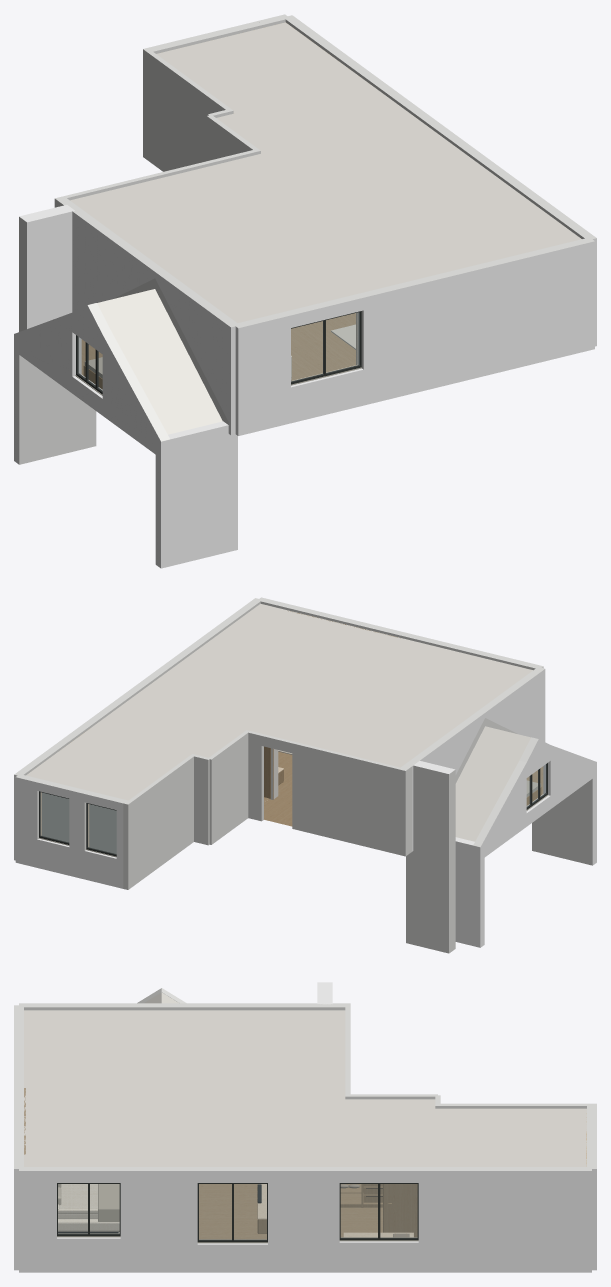
The picture shows the model from 3 angles, top to bottom: view 1: azimuth 30°, elevation 25°; view 2: azimuth 150°, elevation 25°; view 3: azimuth 270°, elevation 25°; orthographic projection. The views are drawn at different scales.
Visible parts, largest first — view 1: Bedroom 02 | ceiling 0, Proposal | New wing south upper end pier.001, Bedroom 02 | ceiling 2, Proposal | Garage wing south return.001, Proposal | West upper principal facade above wing roof.001, Bedroom 02 | retained vault soffit, Proposal | New wing south upper pier 0.001, Proposal | Garage wing north return.001, Proposal | Entrance bay south return.001, Proposal | Guest bathroom west.001, Proposal | New wing south upper window 0 glass.001, Proposal | Continued roof garage wing gable south head 0.001 (+15 smaller); view 2: Bedroom 02 | ceiling 0, Bedroom 02 | ceiling 2, Proposal | Principal suite north partition pier 0.001, Proposal | Entrance bay south return.001, Bedroom 02 | retained vault soffit.001, Proposal | West upper principal facade above wing roof.001, Proposal | Guest bathroom west.001, Proposal | Garage wing south return.001, Proposal | Principal study west wall.001, Proposal | Garage wing north return.001, Proposal | Courtyard upper return.001, Proposal | North upper facade east end pier.001 (+20 smaller); view 3: Bedroom 02 | ceiling 0, Bedroom 02 | ceiling 2, Proposal | New wing east upper end pier.001, Proposal | New wing east upper pier 1.001, Proposal | New wing east upper pier 2.001, Proposal | New wing east upper window 2 glass.001, Proposal | New wing east upper pier 0.001, Proposal | New wing east upper window 1 glass.001, Bedroom 02 | floor 0, Proposal | New wing east upper window 0 glass.001, Proposal | New wing east upper sill 2.001, Proposal | New wing east upper sill 0.001 (+15 smaller).
Boxes of the visible parts, left/top/right/bottom form: Bedroom 02 | ceiling 0: left=70, top=141, right=581, bottom=322; Proposal | New wing south upper end pier.001: left=358, top=237, right=594, bottom=405; Bedroom 02 | ceiling 2: left=156, top=22, right=447, bottom=178; Proposal | Garage wing south return.001: left=155, top=421, right=237, bottom=568; Proposal | West upper principal facade above wing roof.001: left=81, top=216, right=237, bottom=421; Bedroom 02 | retained vault soffit: left=97, top=289, right=222, bottom=434; Proposal | New wing south upper pier 0.001: left=233, top=311, right=290, bottom=435; Proposal | Garage wing north return.001: left=14, top=335, right=96, bottom=464; Proposal | Entrance bay south return.001: left=19, top=203, right=81, bottom=331; Proposal | Guest bathroom west.001: left=145, top=50, right=231, bottom=171; Proposal | New wing south upper window 0 glass.001: left=291, top=312, right=359, bottom=381; Proposal | Continued roof garage wing gable south head 0.001: left=102, top=332, right=169, bottom=441; Bedroom 02 | ceiling 0: left=152, top=603, right=532, bottom=767; Bedroom 02 | ceiling 2: left=26, top=683, right=272, bottom=800; Proposal | Principal suite north partition pier 0.001: left=292, top=741, right=400, bottom=854; Proposal | Entrance bay south return.001: left=406, top=761, right=455, bottom=953; Bedroom 02 | retained vault soffit.001: left=455, top=726, right=530, bottom=841; Proposal | West upper principal facade above wing roof.001: left=420, top=668, right=543, bottom=774; Proposal | Guest bathroom west.001: left=127, top=754, right=193, bottom=885; Proposal | Garage wing south return.001: left=532, top=763, right=596, bottom=865; Proposal | Principal study west wall.001: left=208, top=730, right=248, bottom=844; Proposal | Garage wing north return.001: left=455, top=837, right=484, bottom=947; Proposal | Courtyard upper return.001: left=124, top=789, right=148, bottom=889; Proposal | North upper facade east end pier.001: left=15, top=774, right=40, bottom=867; Bedroom 02 | ceiling 0: left=24, top=1010, right=345, bottom=1166; Bedroom 02 | ceiling 2: left=282, top=1099, right=586, bottom=1166; Proposal | New wing east upper end pier.001: left=418, top=1167, right=591, bottom=1272; Proposal | New wing east upper pier 1.001: left=120, top=1167, right=197, bottom=1272; Proposal | New wing east upper pier 2.001: left=268, top=1167, right=339, bottom=1272; Proposal | New wing east upper window 2 glass.001: left=341, top=1184, right=417, bottom=1237; Proposal | New wing east upper pier 0.001: left=19, top=1167, right=56, bottom=1272; Proposal | New wing east upper window 1 glass.001: left=199, top=1184, right=266, bottom=1239; Bedroom 02 | floor 0: left=199, top=1184, right=266, bottom=1239; Proposal | New wing east upper window 0 glass.001: left=58, top=1184, right=119, bottom=1233; Proposal | New wing east upper sill 2.001: left=339, top=1241, right=418, bottom=1272; Proposal | New wing east upper sill 0.001: left=57, top=1237, right=120, bottom=1272.
Size of the model in its own units: 10.72 by 5.35 by 13.28.
35 materials, 3 textured.
